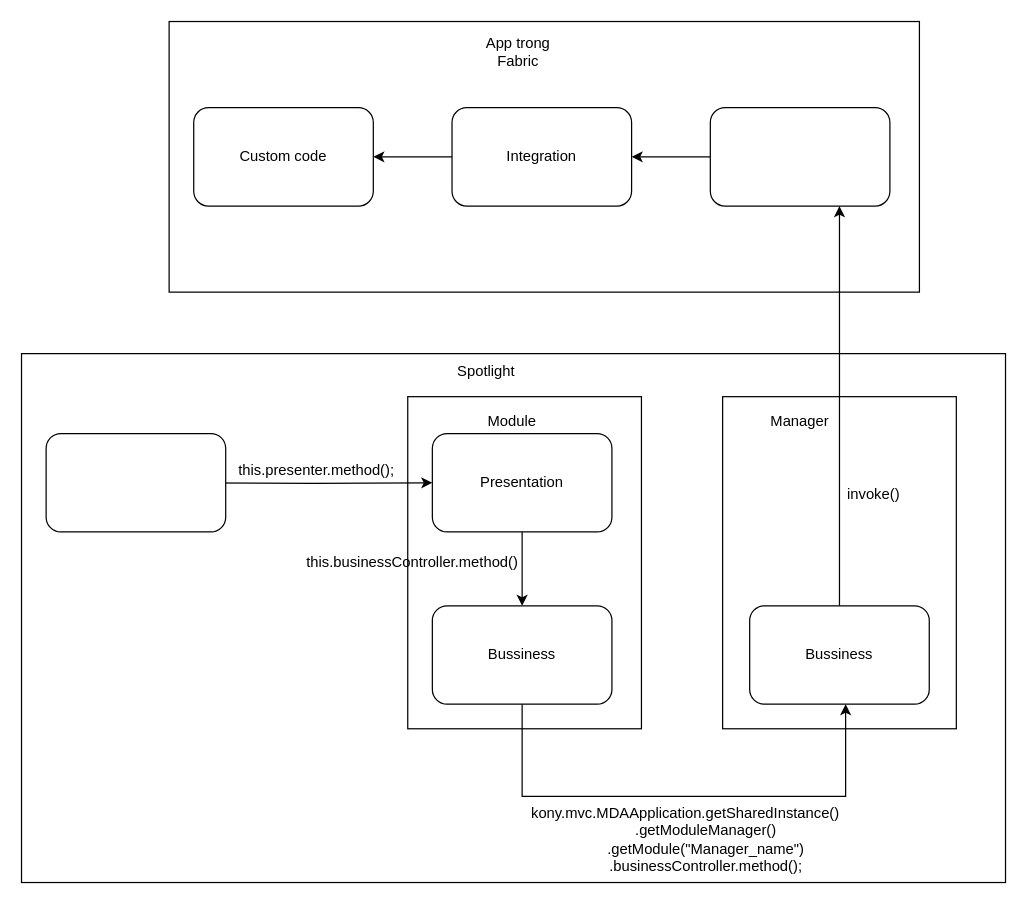
Some shapes in this 1027 by 904 pixel diagram are drawn without their labels. Each missing label, with the centre of its shape:
"Controller" belongs at pixel 135 482.
"Object" belongs at pixel 799 156.
